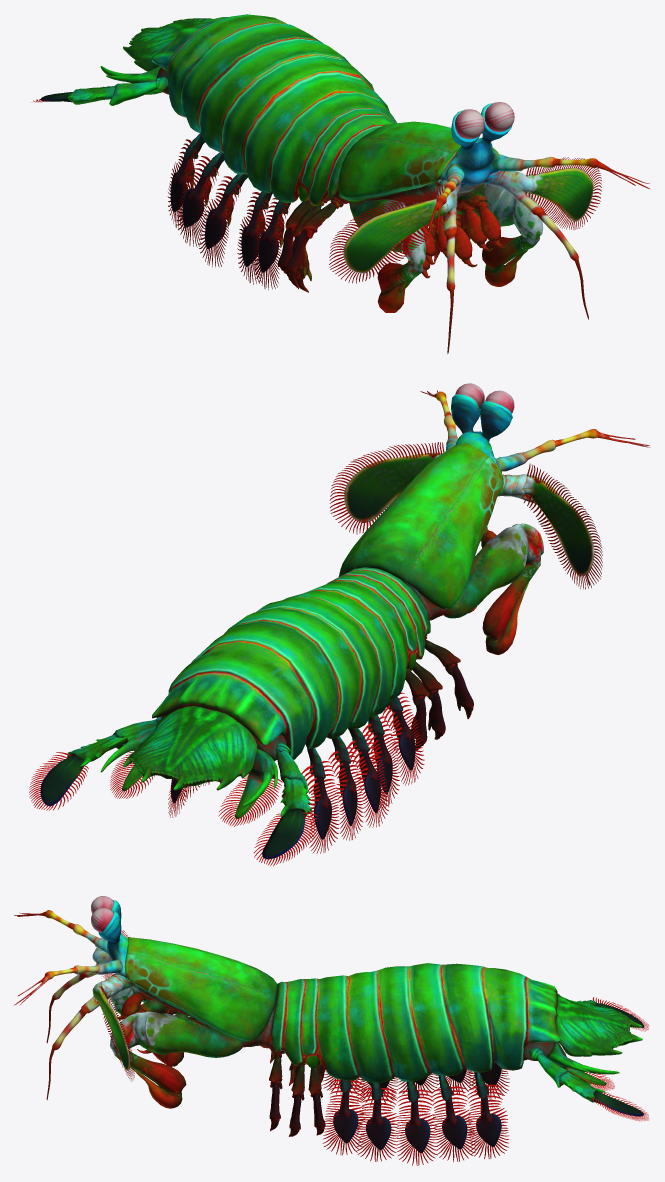
The model's file is sw_mantisshrimp.glb.
The picture shows the model from 3 angles, top to bottom: view 1: azimuth 30°, elevation 25°; view 2: azimuth 150°, elevation 25°; view 3: azimuth 270°, elevation 25°; orthographic projection. The views are drawn at different scales.
Parts seen in each view (by area): view 1: mantis_shrimp.1_1; view 2: mantis_shrimp.1_1; view 3: mantis_shrimp.1_1.
Part boxes in pixels (x1,y1,x2,y2): mantis_shrimp.1_1: [33, 14, 650, 354]; mantis_shrimp.1_1: [29, 383, 650, 866]; mantis_shrimp.1_1: [14, 896, 648, 1165].
Size of the model in its own units: 0.0391 by 0.0364 by 0.0901.
Materials: 1 (1 with a texture image).
